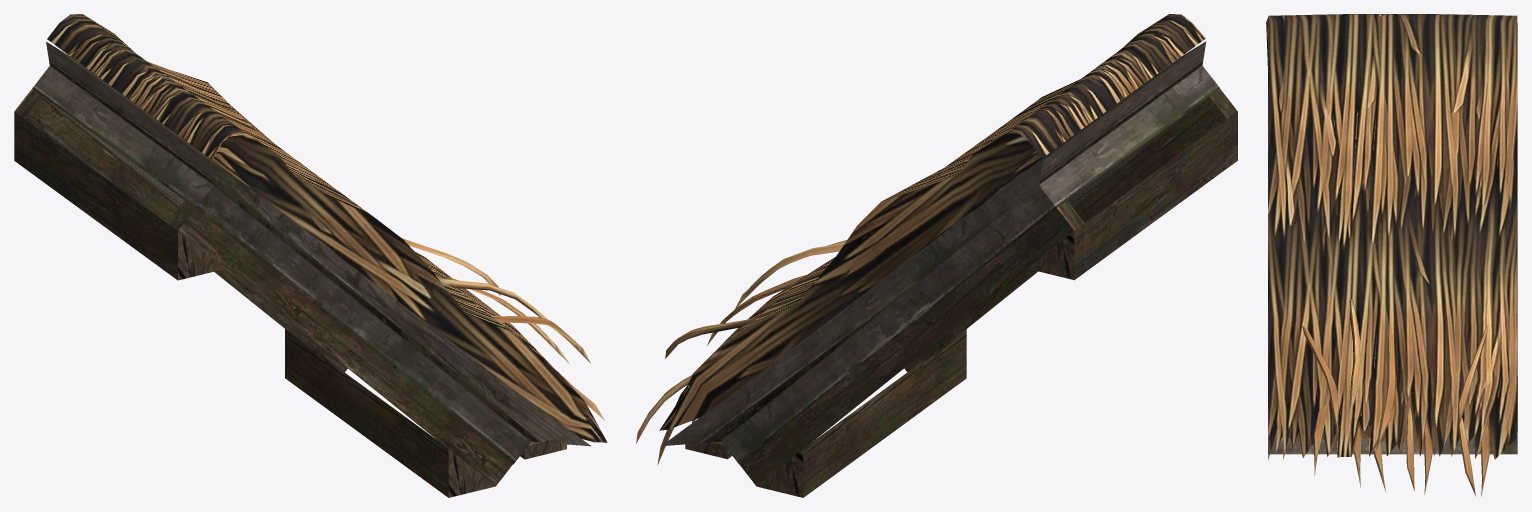
The picture shows the model from 3 angles, left to right: view 1: azimuth 30°, elevation 25°; view 2: azimuth 150°, elevation 25°; view 3: azimuth 270°, elevation 25°; orthographic projection. The views are drawn at different scales.
Parts seen in each view (by area): view 1: SM_BB_T1_Extended_Roof_Med_LOD0; view 2: SM_BB_T1_Extended_Roof_Med_LOD0; view 3: SM_BB_T1_Extended_Roof_Med_LOD0.
Boxes of the visible parts, x1,y1,x2,y2 form: SM_BB_T1_Extended_Roof_Med_LOD0: [14, 14, 607, 497]; SM_BB_T1_Extended_Roof_Med_LOD0: [636, 14, 1237, 497]; SM_BB_T1_Extended_Roof_Med_LOD0: [1266, 14, 1517, 496].
Size of the model in its own units: 2.47 by 2.26 by 1.51.
Materials: 3 (3 with a texture image).
